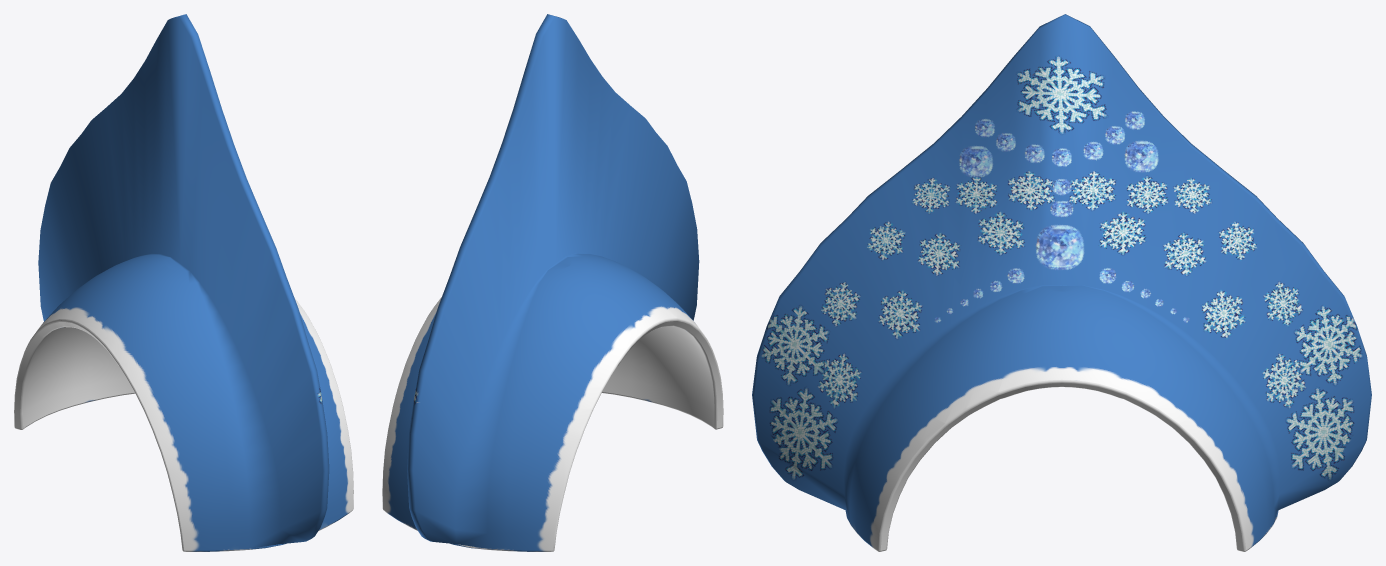
File: kokoshnik.fbx
3 views of the same model, side by side, from view 1: azimuth 30°, elevation 25°; view 2: azimuth 150°, elevation 25°; view 3: azimuth 270°, elevation 25° (orthographic). The views are drawn at different scales.
Visible parts, largest first — view 1: Sphere; view 2: Sphere; view 3: Sphere.
Part boxes in pixels (bbox=[...]): Sphere: bbox=[14, 14, 353, 551]; Sphere: bbox=[382, 14, 723, 551]; Sphere: bbox=[752, 14, 1371, 551].
Bounding box in the file's own units: 113 × 258 × 292.
1 material, 1 textured.
